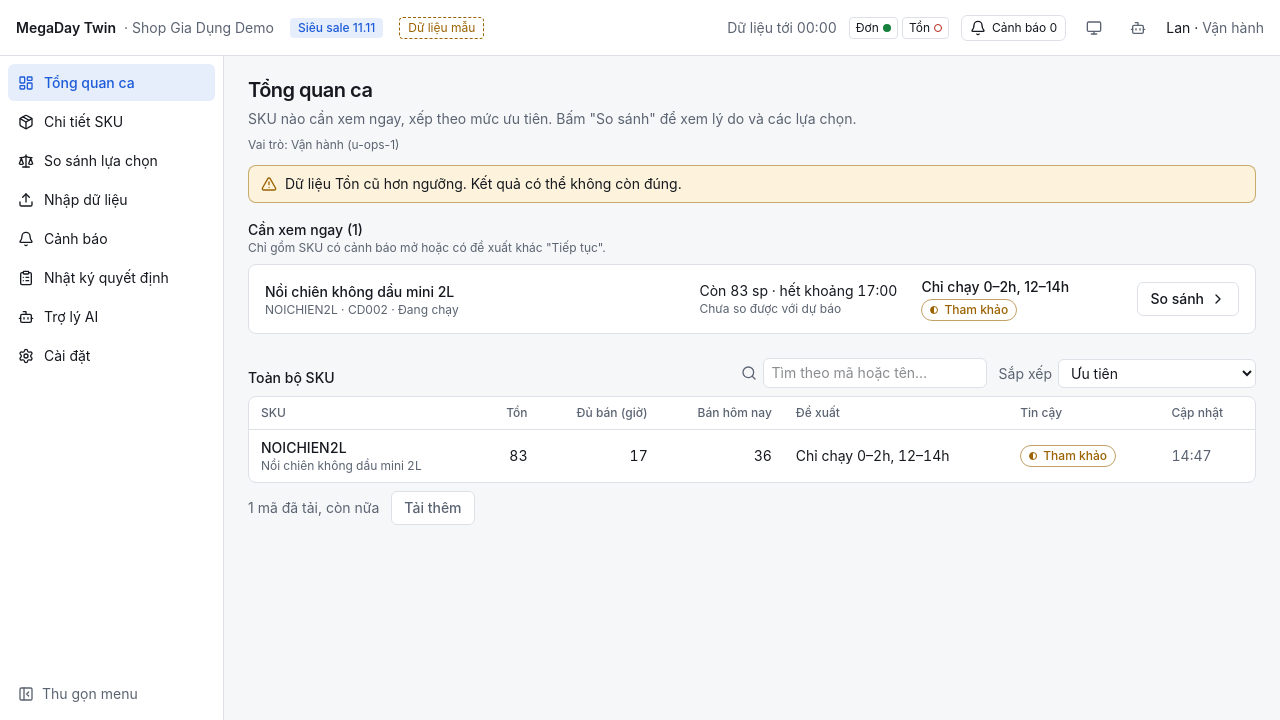
Test case: Tổng quan ca · real API shapes › "Tải thêm" follows next_cursor
Click the button "Tải thêm". click: (433, 508)
box: [391, 491, 475, 525]
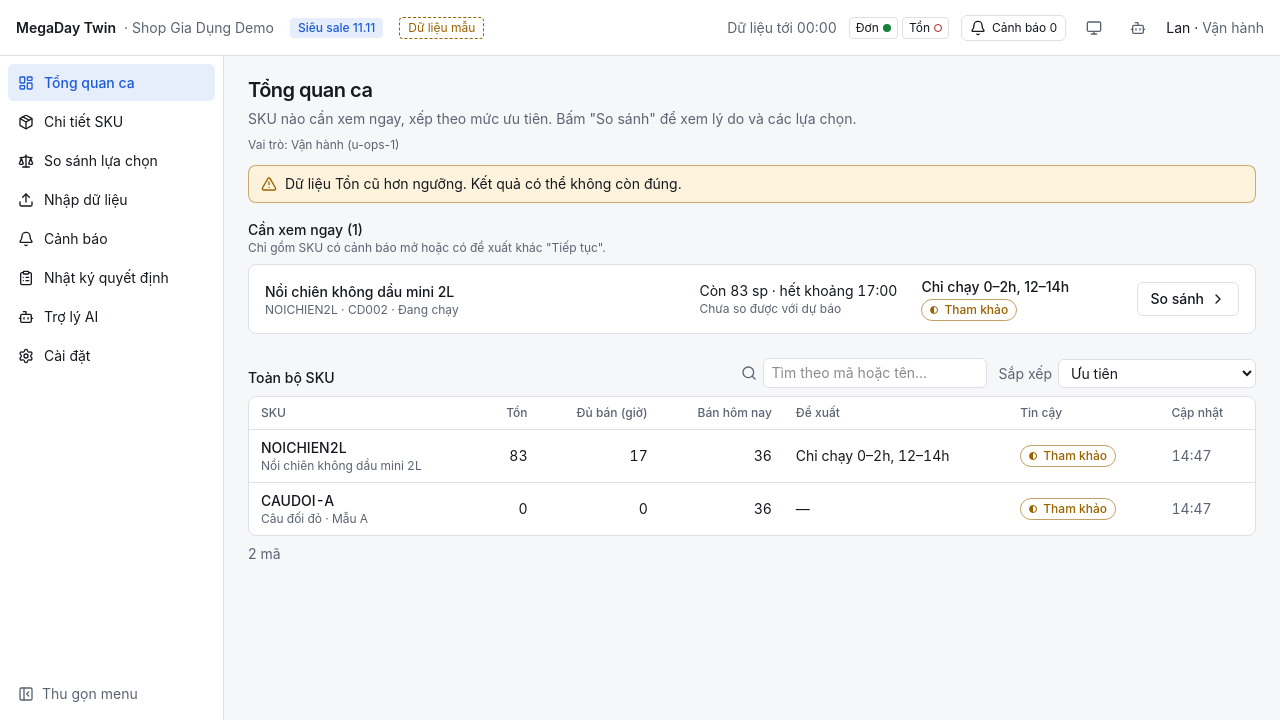
Now the link "CAUDOI-A" is shown, box [261, 492, 334, 509]
Now the text "2 mã" is shown, box [248, 544, 281, 564]
